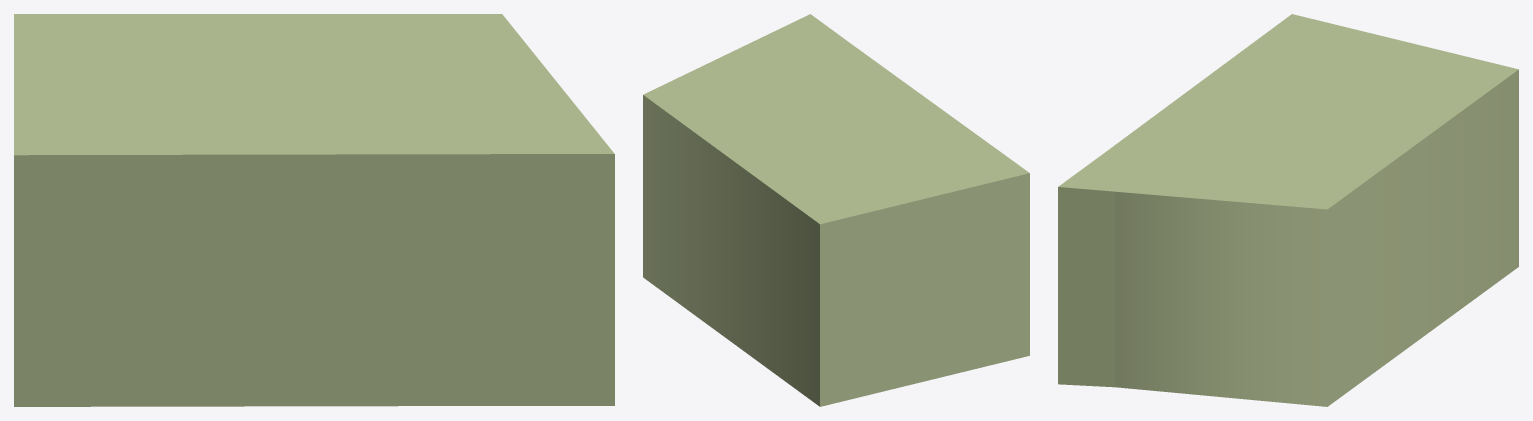
File: ground_14.gltf
3 renders of one model, left to right at view 1: azimuth 30°, elevation 25°; view 2: azimuth 150°, elevation 25°; view 3: azimuth 270°, elevation 25°, orthographic. The views are drawn at different scales.
Parts seen in each view (by area): view 1: namje; view 2: namje; view 3: namje.
Part boxes in pixels (box(x1,y1,x2,y2)): namje: box(14, 14, 614, 406); namje: box(643, 14, 1029, 406); namje: box(1058, 14, 1518, 406).
Size of the model in its own units: 6.44 by 3.03 by 6.42.
